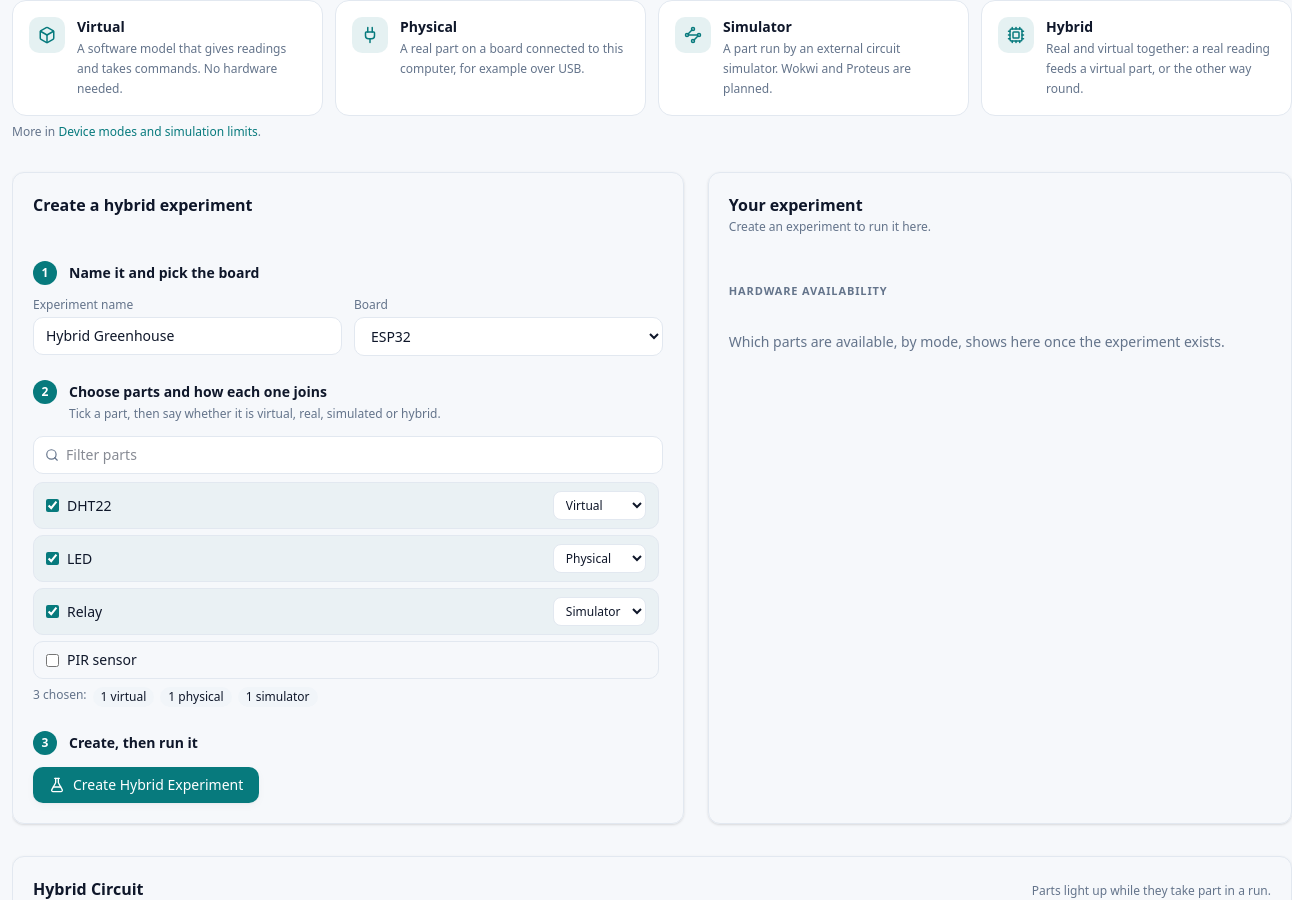
Test case: HybridPanel › filters parts, and creates, starts, steps and stops an experiment, showing availability by name
In the field with placeholder "Filter parts": (348, 455) left=33, top=436, right=663, bottom=474, type "pir"
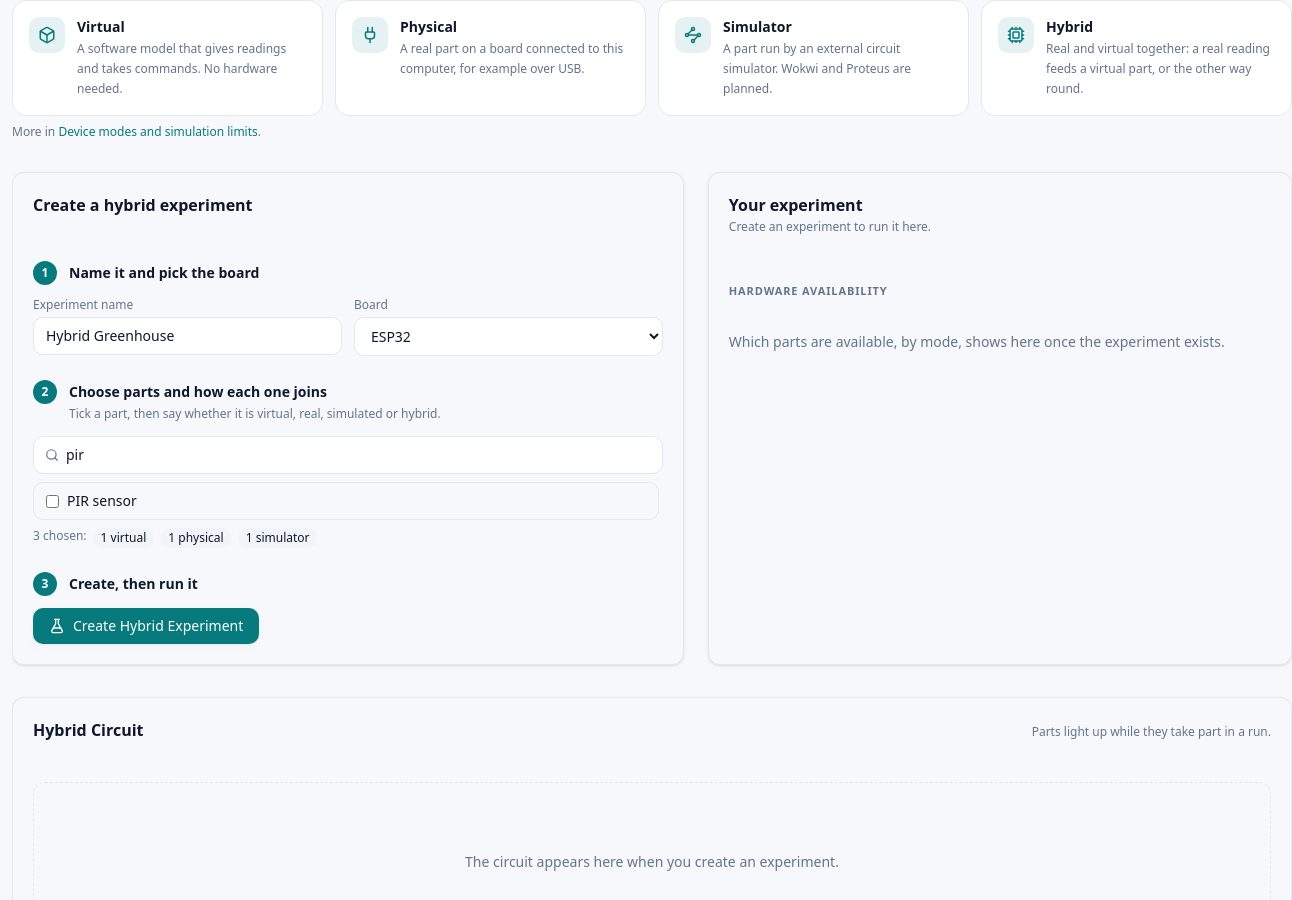
Click the button "Create Hybrid Experiment": click(146, 626) left=33, top=608, right=259, bottom=644
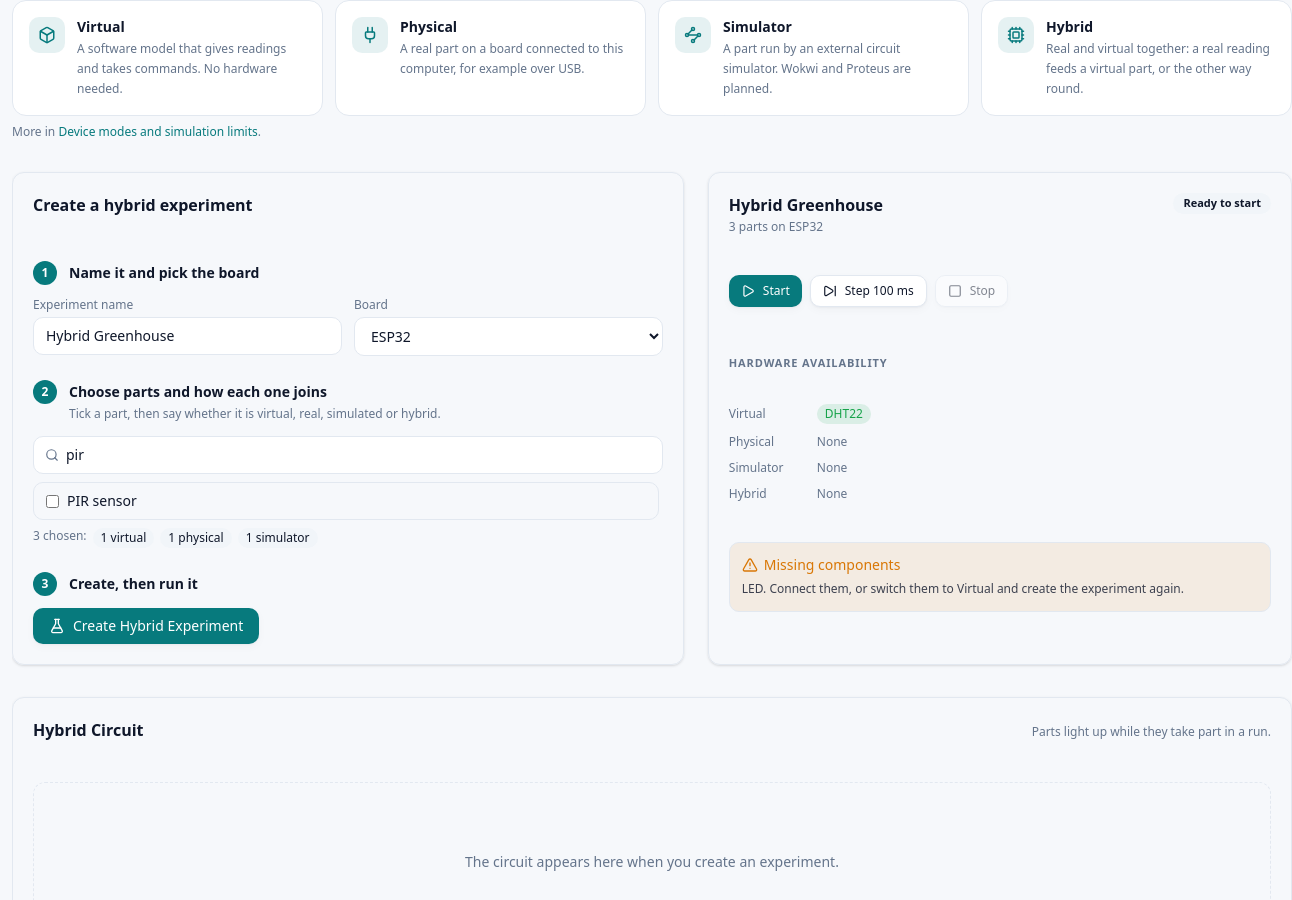
Now the text "Ready to start" is shown, box left=1173, top=193, right=1271, bottom=214
Now the text "DHT22" is shown, box left=817, top=404, right=871, bottom=424
Now the text "LED. Connect them" is shown, box left=742, top=578, right=1258, bottom=598
Click the button "Start": click(765, 291) left=729, top=275, right=802, bottom=307
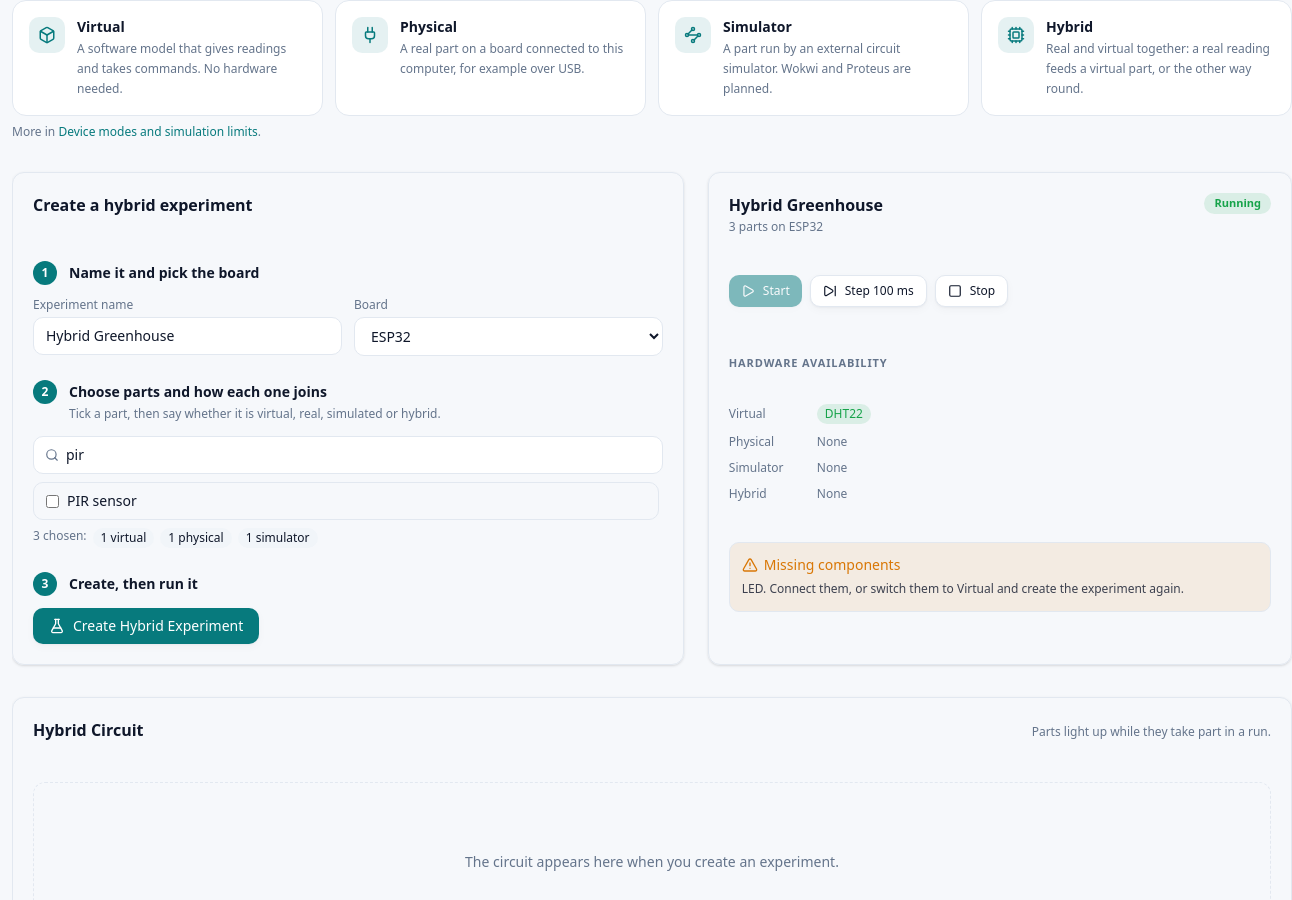
Now the text "Running" is shown, box left=1204, top=193, right=1271, bottom=214
Click the button "Stop": click(971, 291) left=935, top=275, right=1008, bottom=307
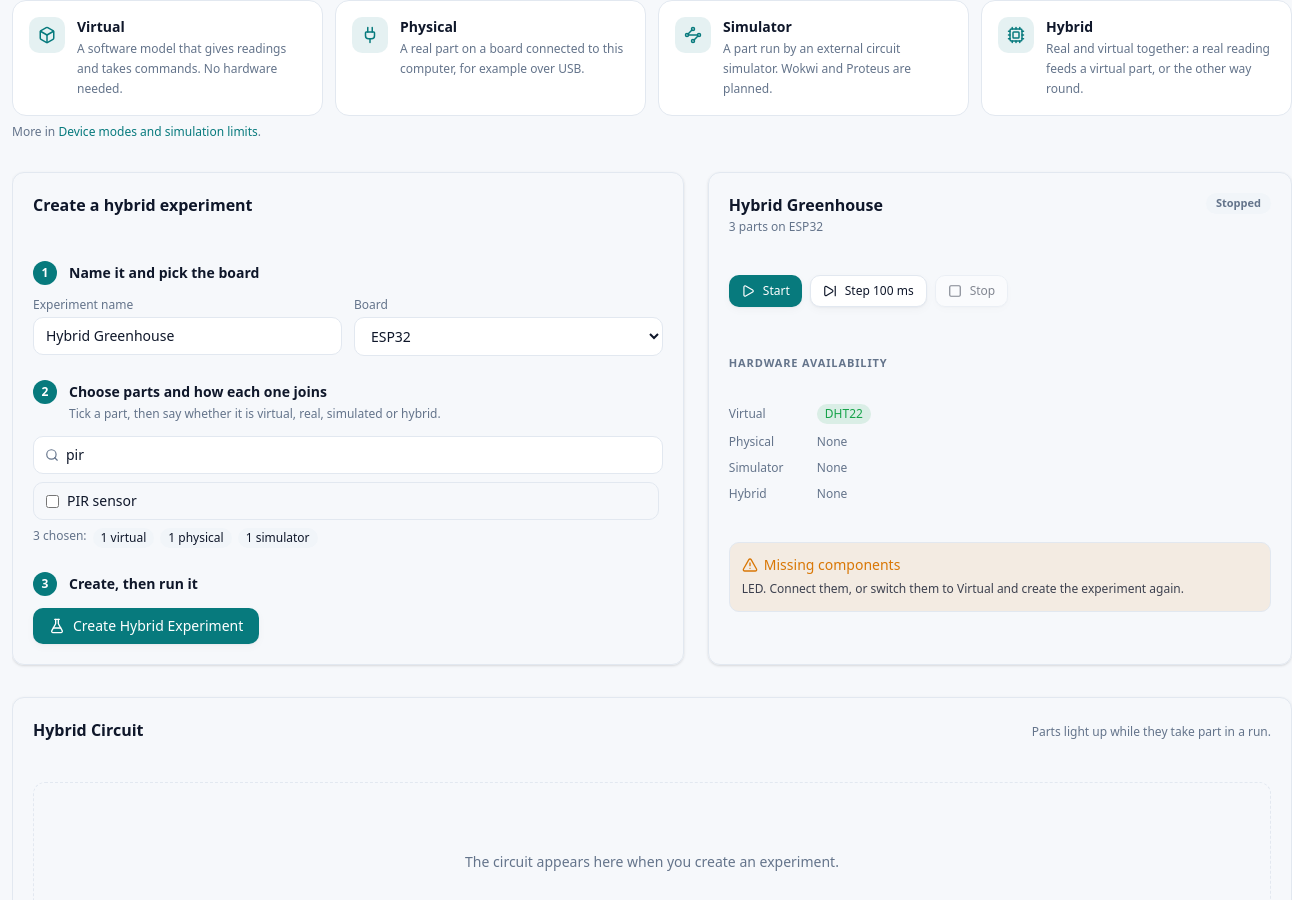
Now the text "Stopped" is shown, box left=1206, top=193, right=1271, bottom=214
